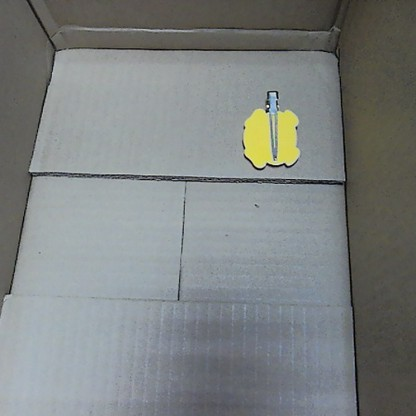dogclip: (239, 84, 304, 170)
